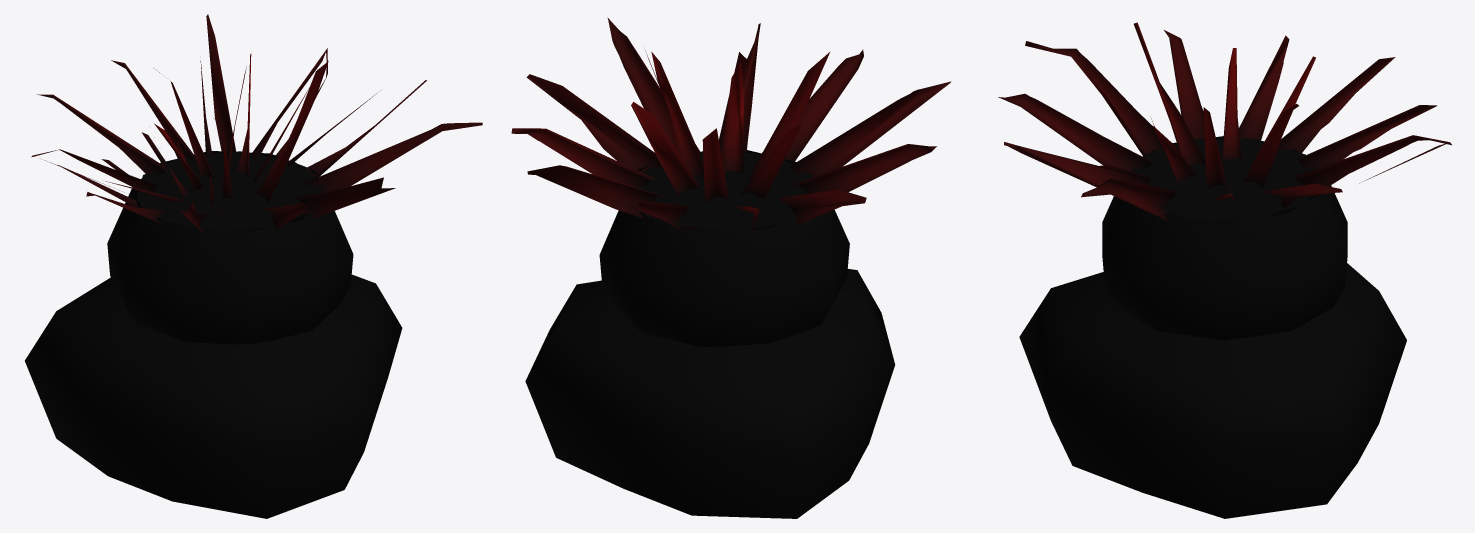
File: plant_shallows_anemone_a_lod2.glb
3 views of the same model, side by side, from view 1: azimuth 30°, elevation 25°; view 2: azimuth 150°, elevation 25°; view 3: azimuth 270°, elevation 25° (orthographic). The views are drawn at different scales.
Parts seen in each view (by area): view 1: plant_shallows_anemone_a; view 2: plant_shallows_anemone_a; view 3: plant_shallows_anemone_a.
Boxes of the visible parts, box(x1,y1,x2,y2) form: plant_shallows_anemone_a: box(25, 14, 482, 518); plant_shallows_anemone_a: box(511, 17, 951, 518); plant_shallows_anemone_a: box(998, 22, 1451, 518).
Size of the model in its own units: 0.3171 by 0.2951 by 0.3267.
Materials: 1 (1 with a texture image).
